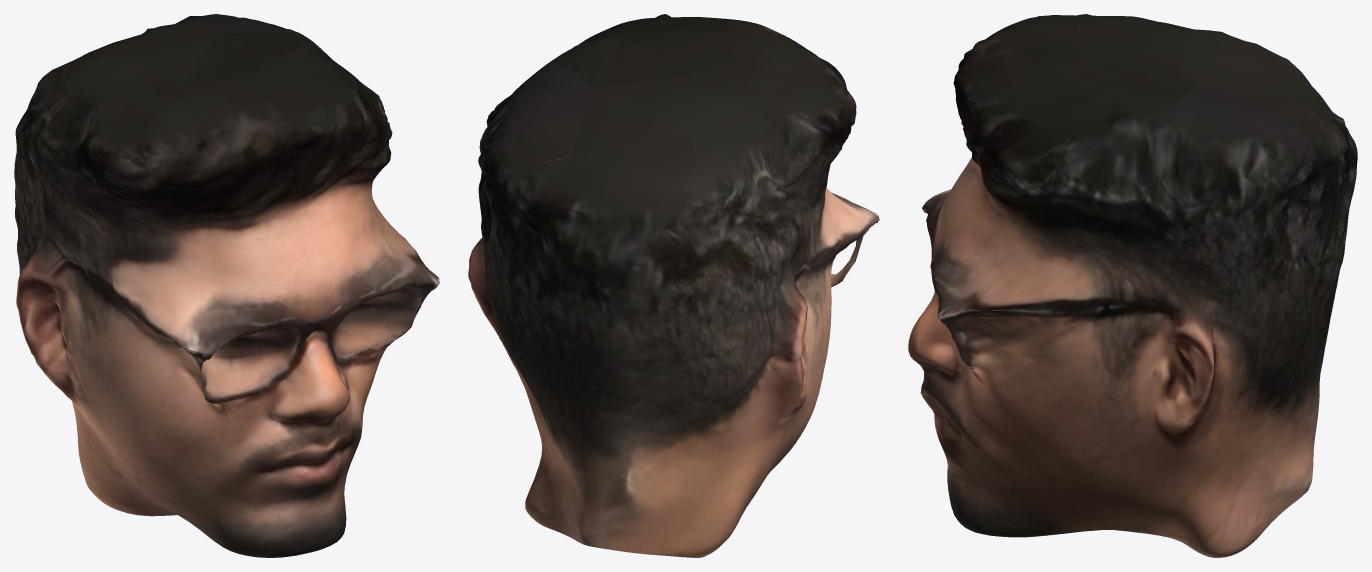
3 renders of one model, left to right at view 1: azimuth 30°, elevation 25°; view 2: azimuth 150°, elevation 25°; view 3: azimuth 270°, elevation 25°, orthographic. The views are drawn at different scales.
Parts seen in each view (by area): view 1: world; view 2: world; view 3: world.
Part boxes in pixels (<box>): world: <box>14,14,439,557</box>; world: <box>468,14,879,557</box>; world: <box>908,14,1357,557</box>.
Bounding box in the file's own units: 0.2263 × 0.3059 × 0.2589.
Materials: 1 (1 with a texture image).
